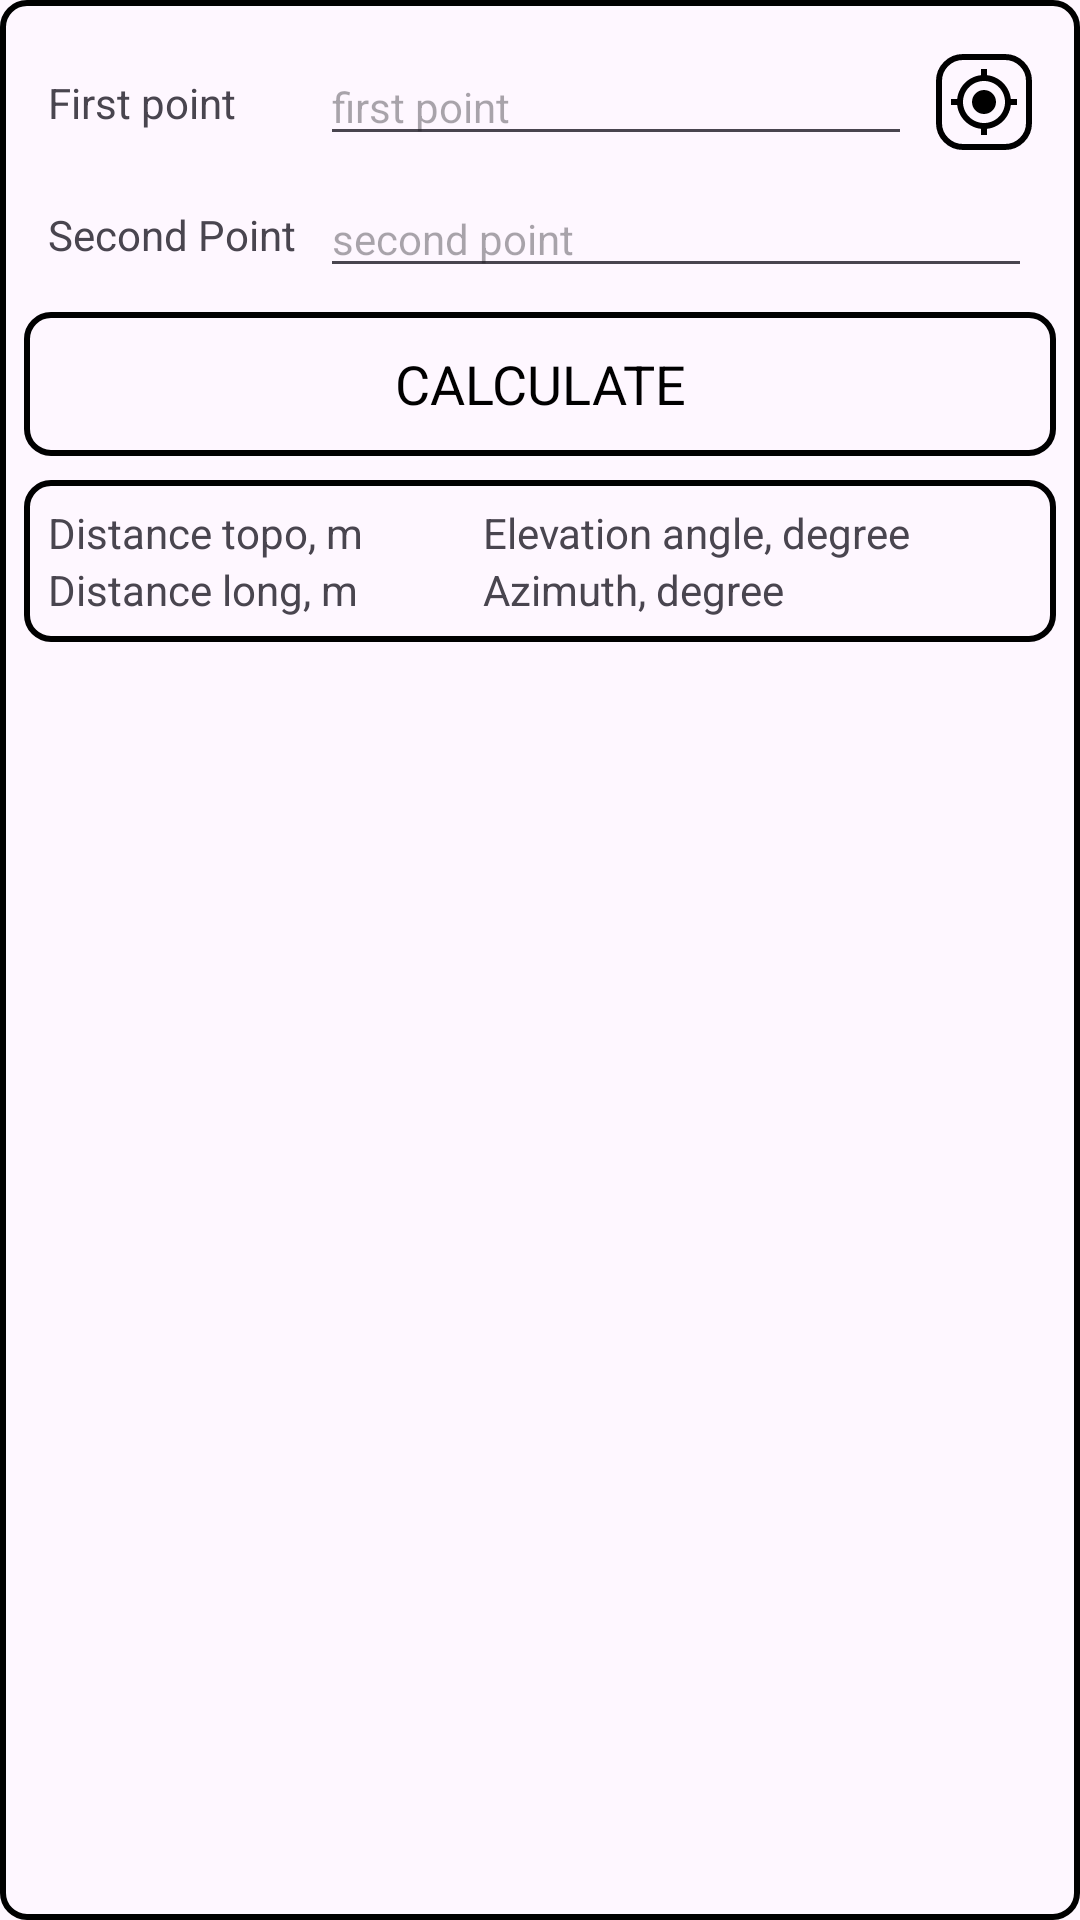

Screen size 1080px×1920px. Icon name, then its center in pixels as (x,y):
location: (984,102)
